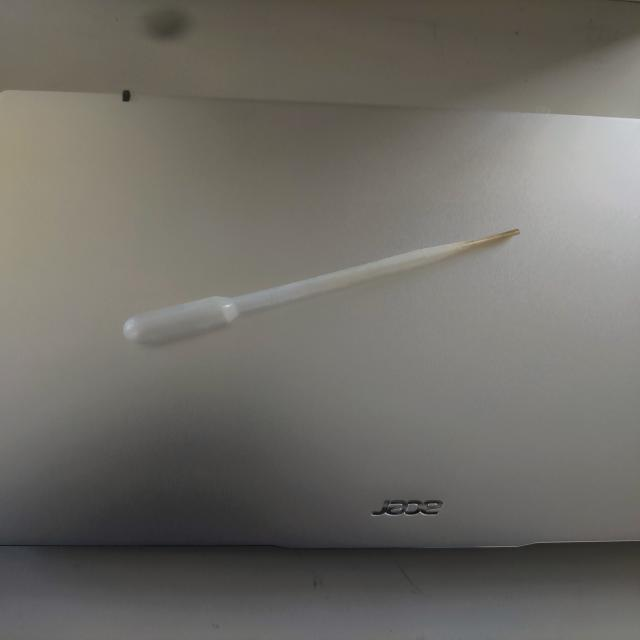Pipette: (94, 197, 543, 374)
